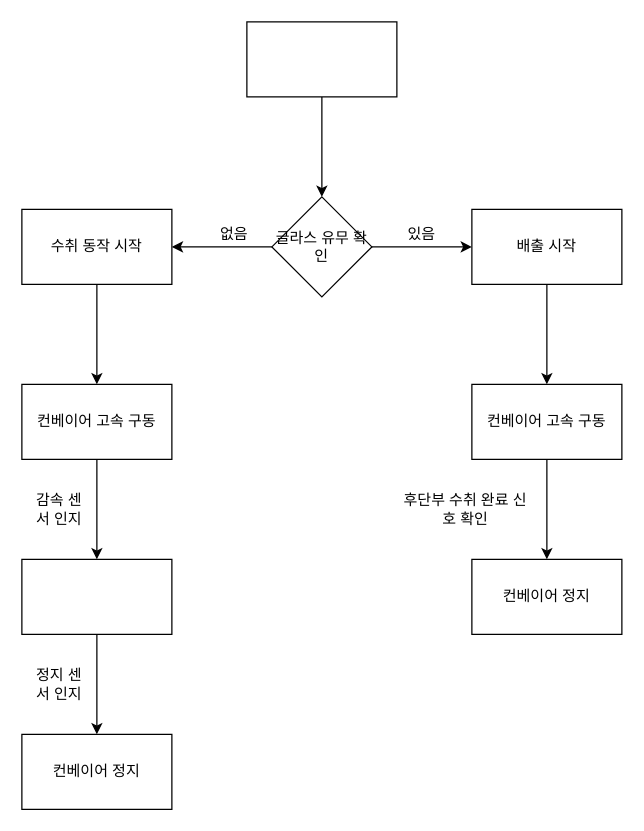
Some shapes in this 644 by 831 pixel diagram are drawn without their labels. Here are the shapes that lost their labels. From the top down, the centre of each, then its label:
pixel 321 59: 자동운전 시작
pixel 96 596: 컨베이어 감속
